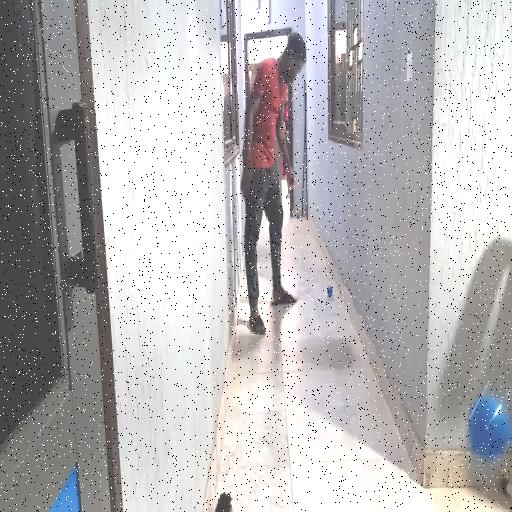plastic-ball: (466, 379, 510, 468)
